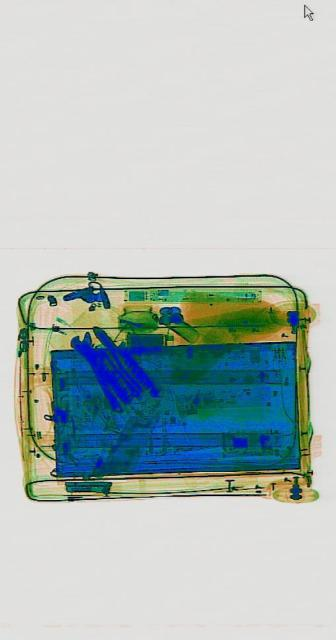Pliers: (85, 311, 149, 405)
Wrench: (69, 320, 124, 422)
